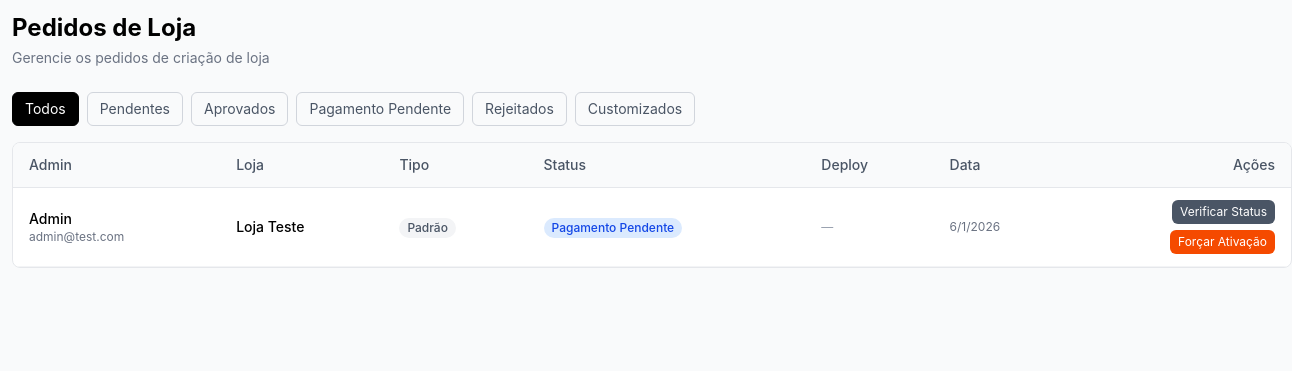
Store Requests Page › APPROVED_PENDING_PAYMENT › shows copy payment ID when setup fee unpaid
The width and height of the screenshot is (1292, 371).
Click the button "Verificar Status". click: x=1224, y=212
box: [1172,200,1275,224]
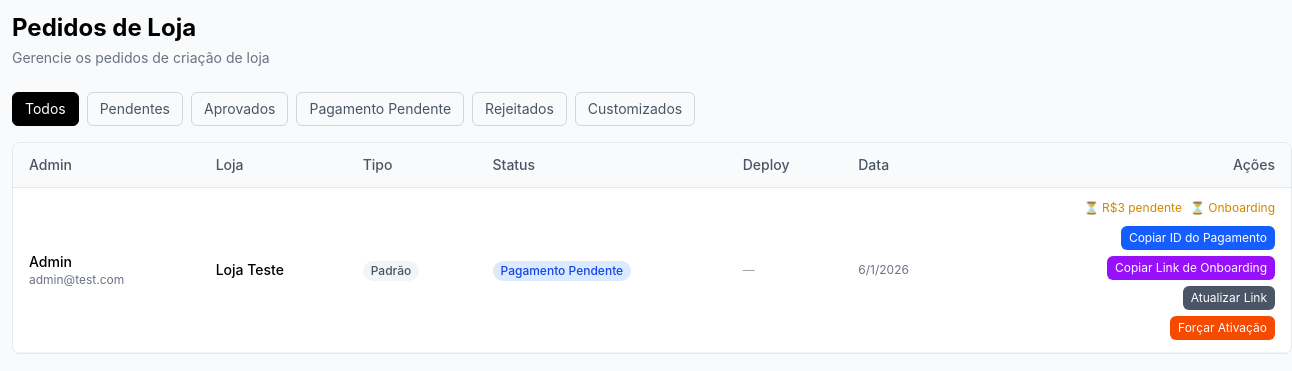
expect the button "Copiar ID do Pagamento" is shown: met, box [1121,226,1275,250]
